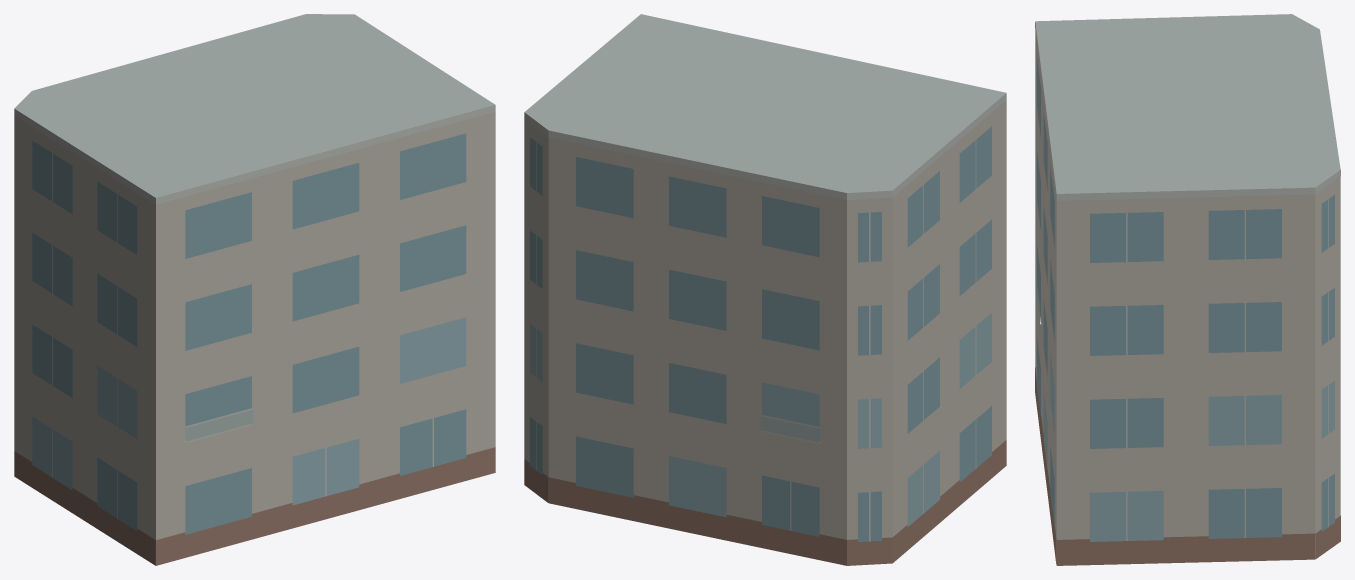
Rendered from survey-upis-32628086.glb.
3 views of the same model, side by side, from view 1: azimuth 30°, elevation 25°; view 2: azimuth 150°, elevation 25°; view 3: azimuth 270°, elevation 25° (orthographic).
Visible parts, largest first — view 1: survey-upis-32628086.tmp; view 2: survey-upis-32628086.tmp; view 3: survey-upis-32628086.tmp.
Boxes of the visible parts, left/top/right/bottom form: survey-upis-32628086.tmp: left=14, top=14, right=495, bottom=565; survey-upis-32628086.tmp: left=524, top=14, right=1006, bottom=565; survey-upis-32628086.tmp: left=1035, top=14, right=1340, bottom=565.
Size of the model in its own units: 13.71 by 13.2 by 9.84.
